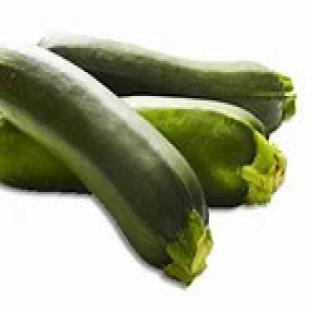Zucchini: (0, 48, 212, 283), (40, 35, 295, 130), (123, 96, 285, 207)
